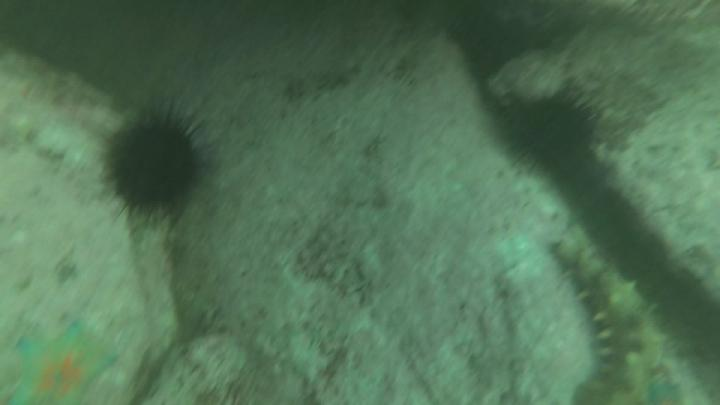echinus: (94, 102, 216, 226), (499, 88, 603, 180)
holothurian: (546, 236, 662, 405)
starfish: (5, 323, 121, 405)
